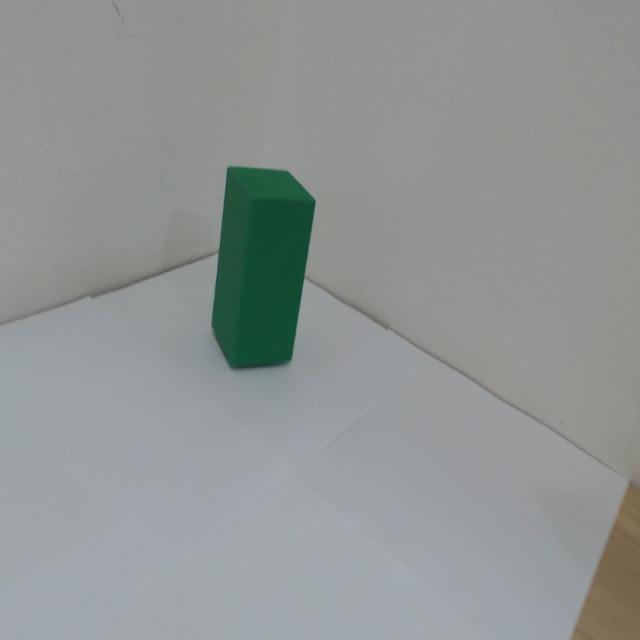cube: (191, 117, 340, 430)
